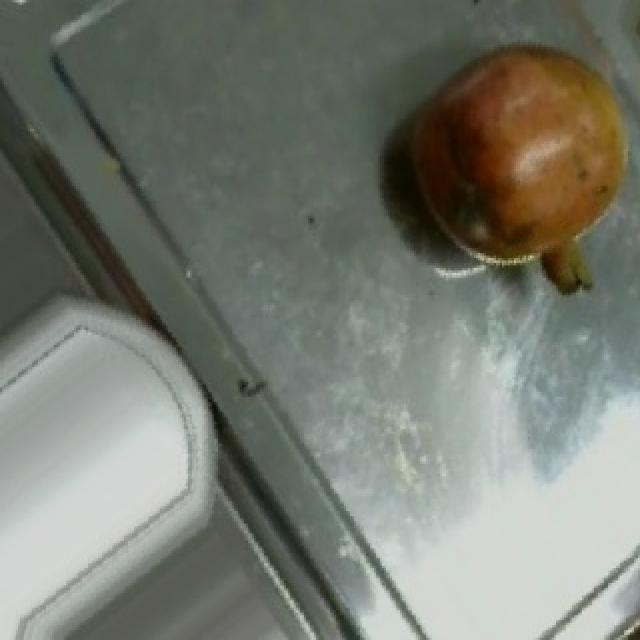fruit: (378, 2, 640, 270)
